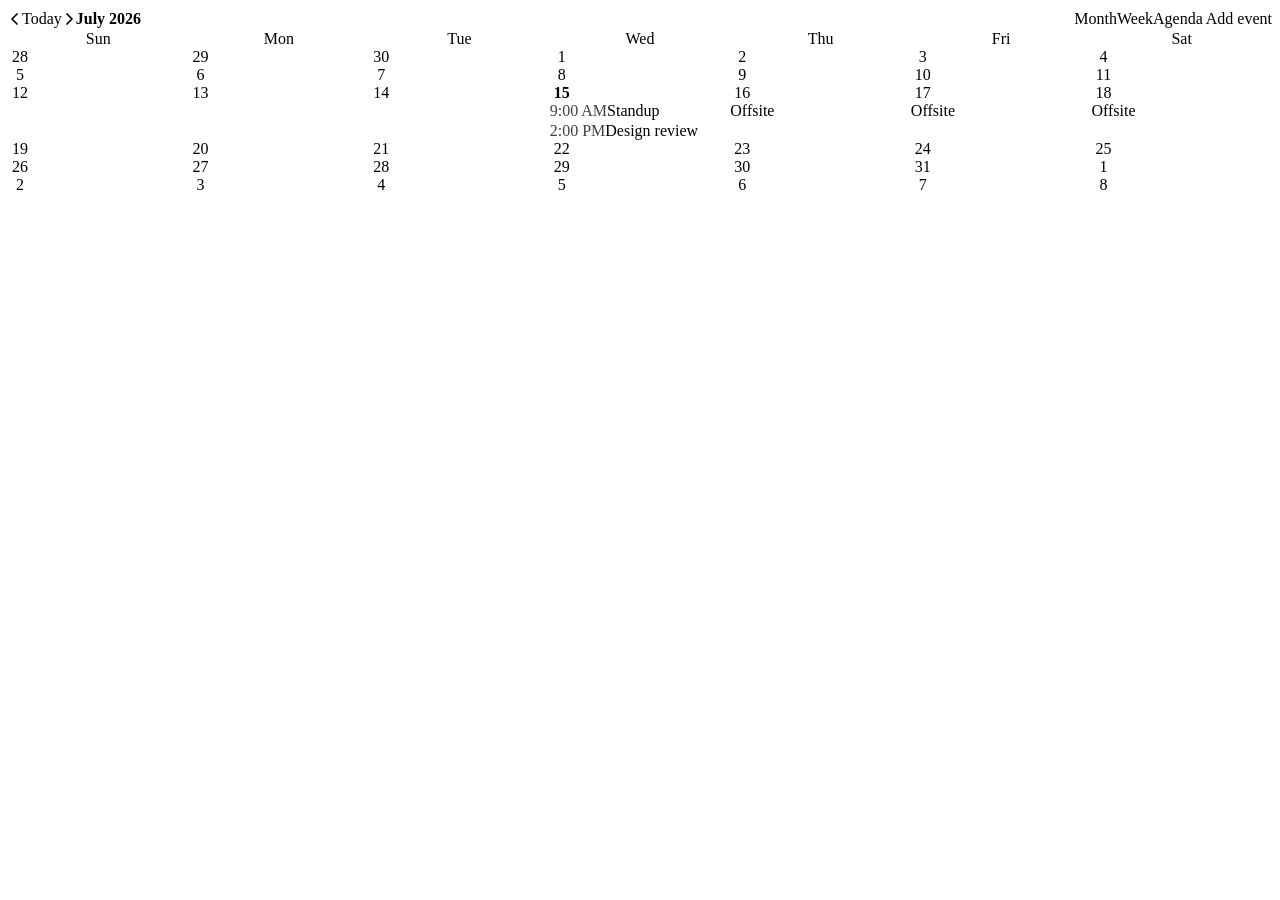
Test: CalendarView editing › adds to the selected day rather than always to today
The image size is (1280, 900).
Click the button "Add event".
click(1239, 19)  # box [1206,9,1272,29]
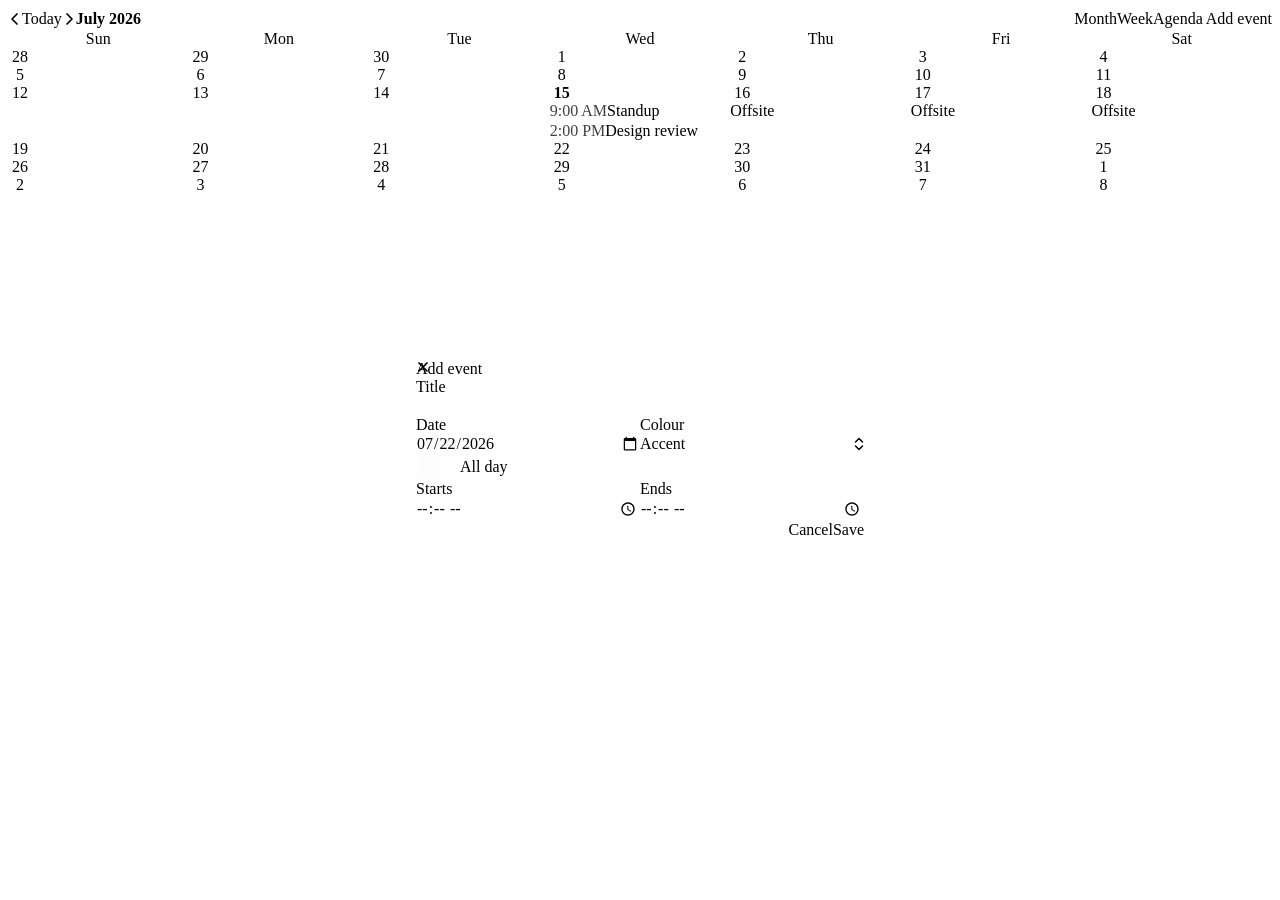
Check: the date field labelled "Date" holds "2026-07-22", box [416,434,640,454]
